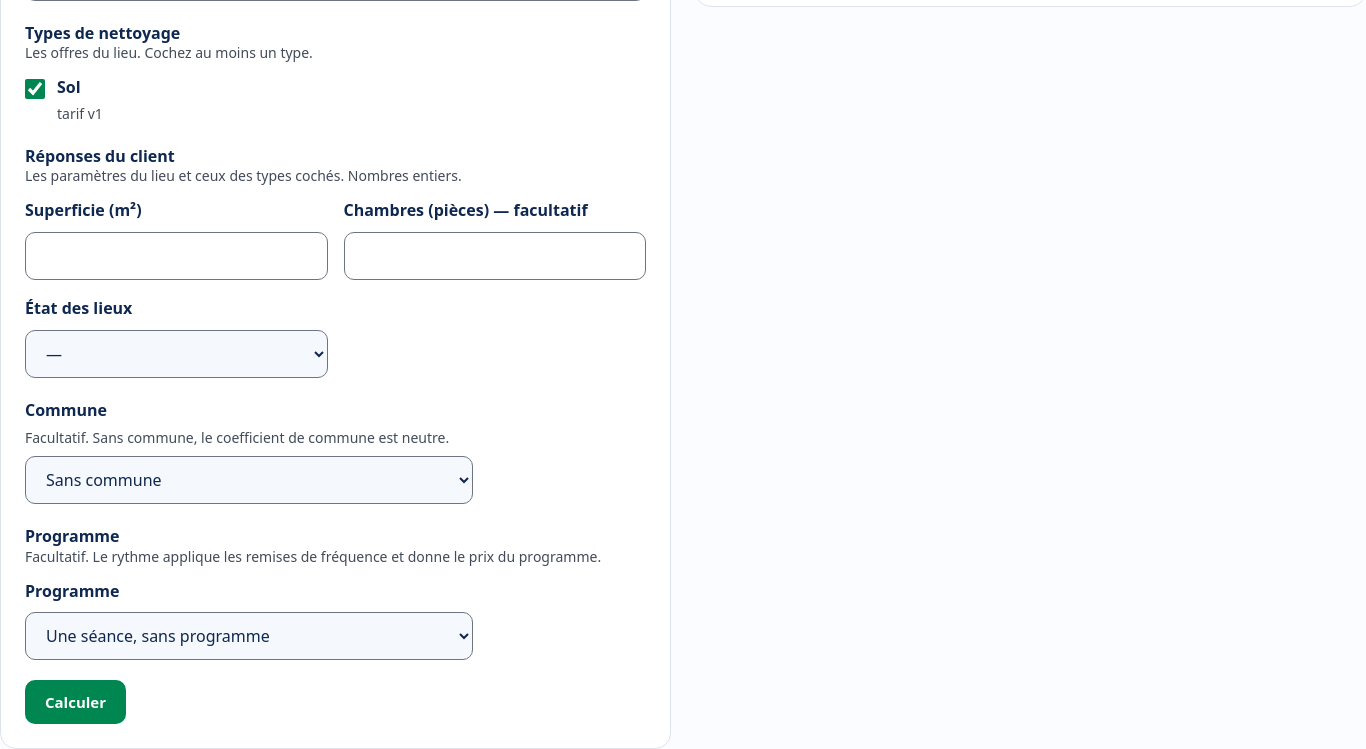
Test: simulateur › refus du serveur (lieu « Autre ») affiché en tête du formulaire
(page scrolled)
Expected: the checkbox labelled "Sol tarif v1" is shown, left=25, top=79, right=45, bottom=99
Click the button "Calculer" at point(76, 702), box left=25, top=680, right=126, bottom=724
(page scrolled)
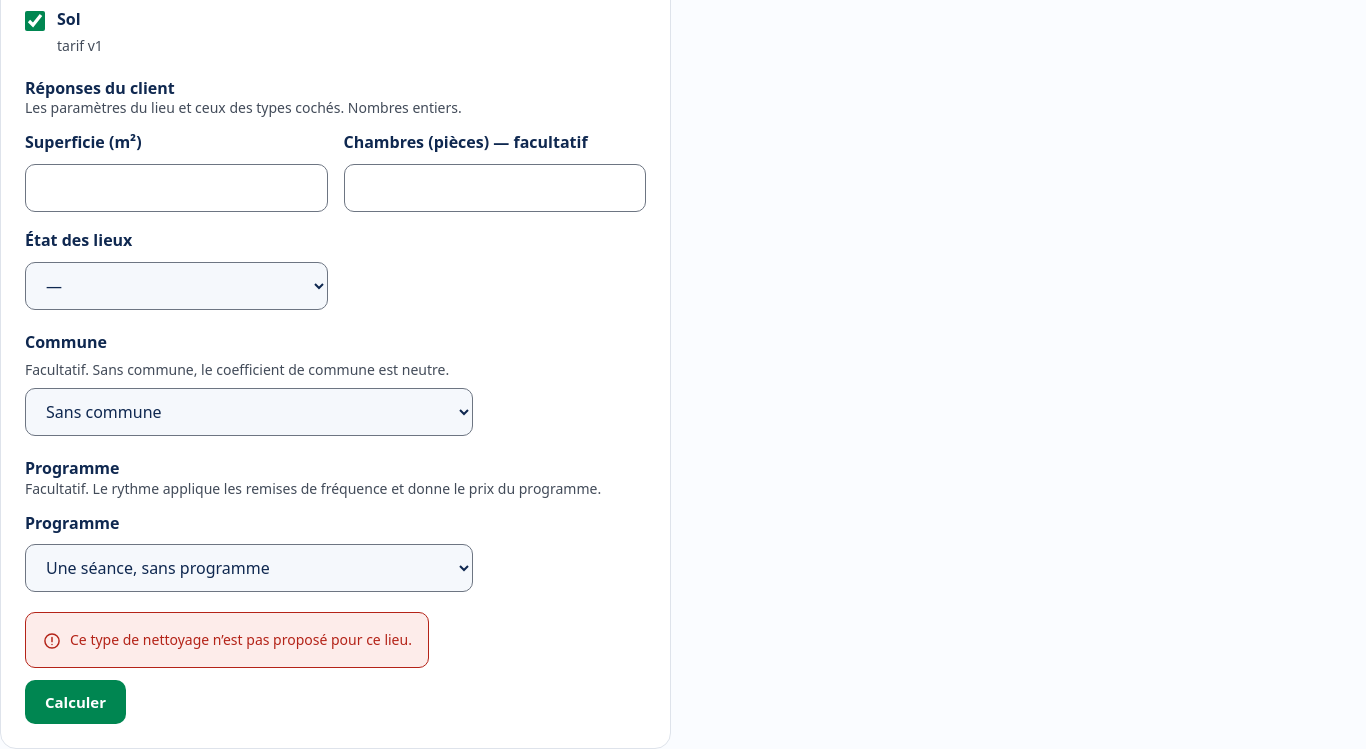
Now the text "Ce type de nettoyage n’est pas proposé pour ce lieu." is shown, box left=70, top=629, right=412, bottom=650
